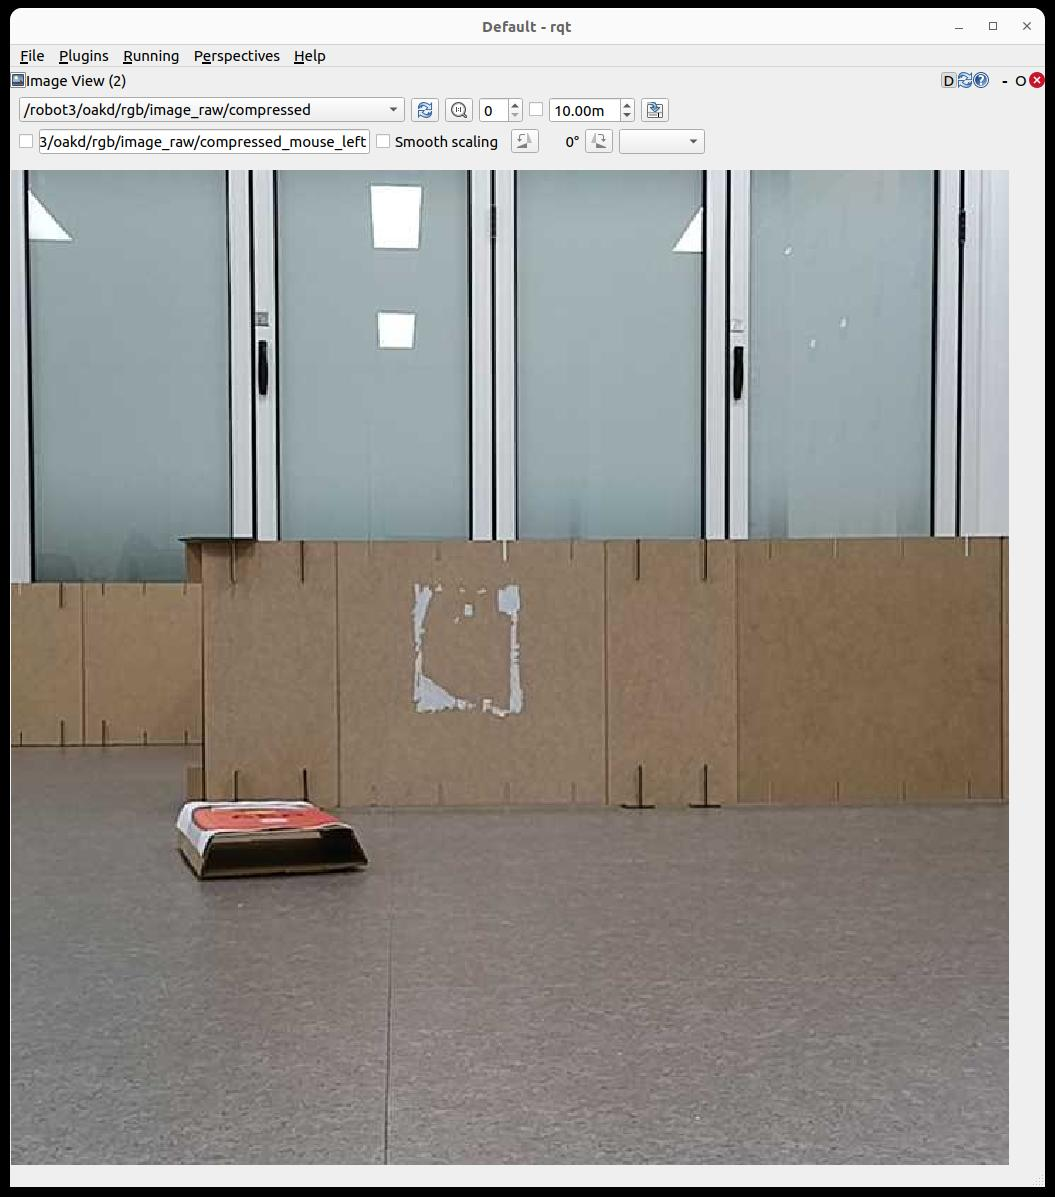AED: (192, 803, 332, 831)
